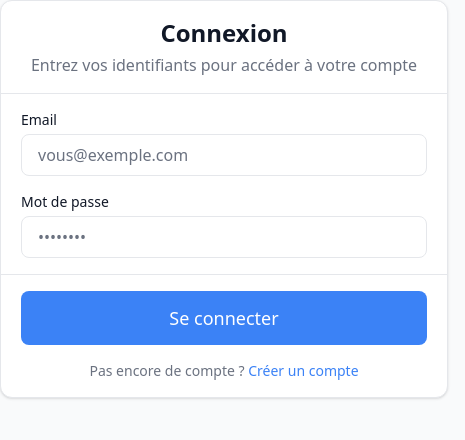
Test: LoginForm › shows error for invalid email format
Type "invalid-email" into the field labelled "Email" at [224, 155], box [21,134,427,176]
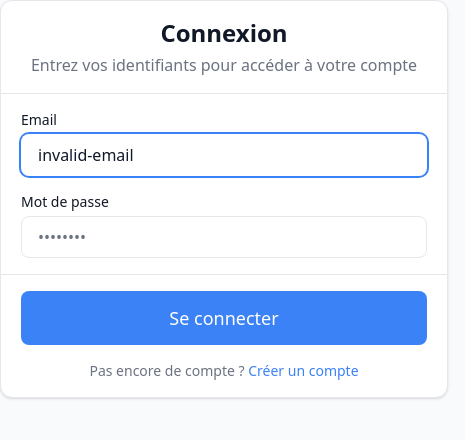
Type "password123" into the password field labelled "Mot de passe" at [224, 237], box [21,216,427,258]
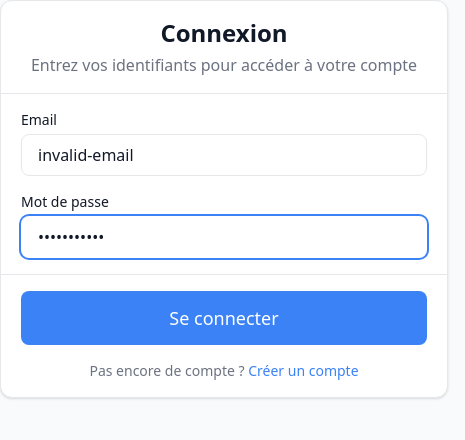
Submit the form
Submit the form "Se connecter"
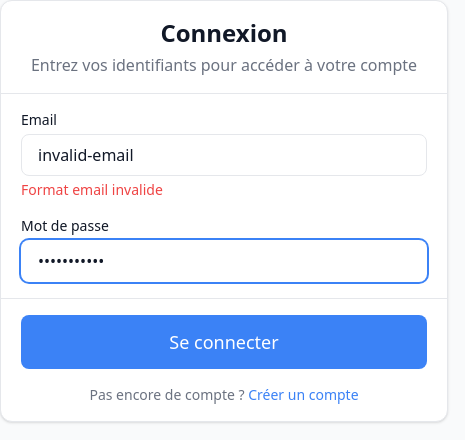
expect the text "Format email invalide" is shown: met, box [21,180,163,199]
